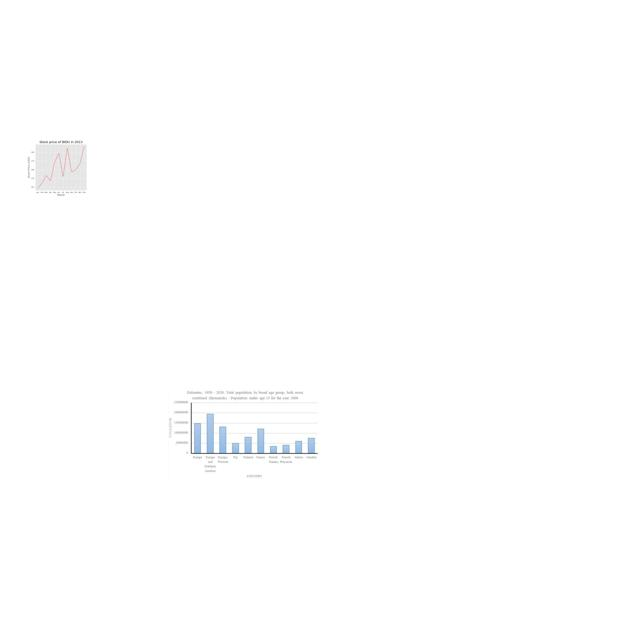Graph: (168, 389, 320, 479), (20, 137, 100, 197)
